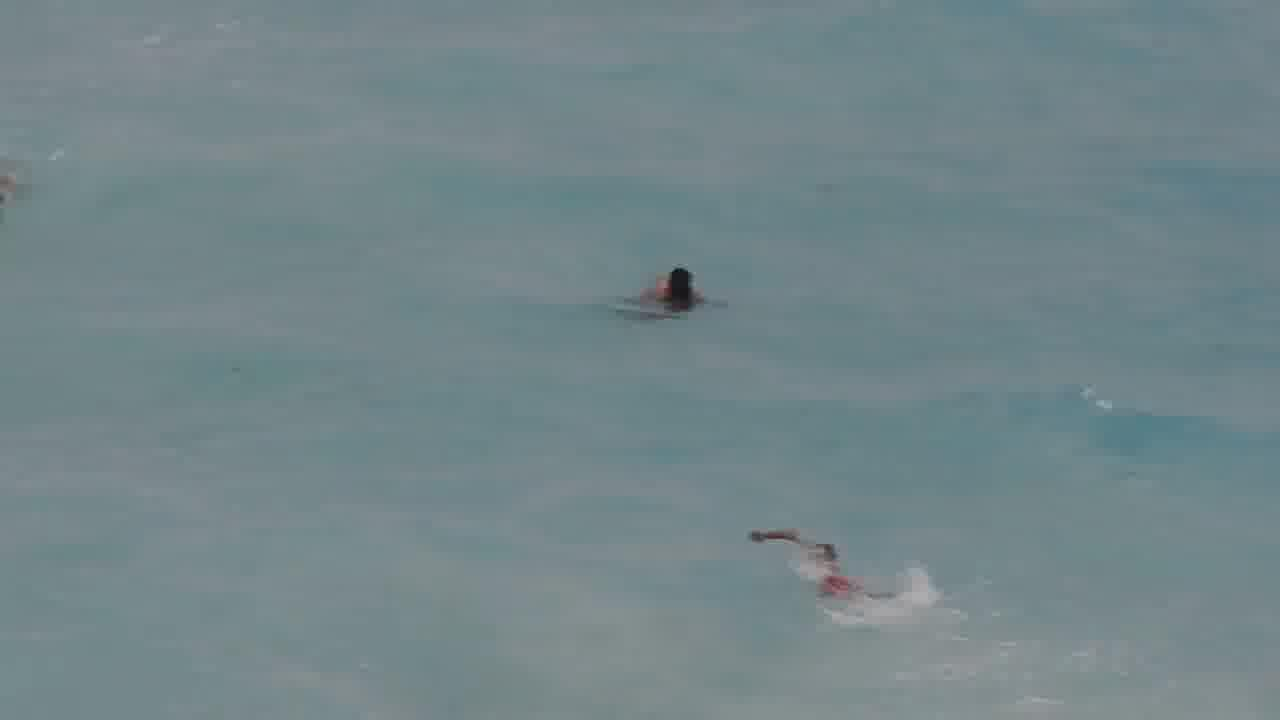human: (772, 520, 879, 625), (638, 248, 729, 340)
